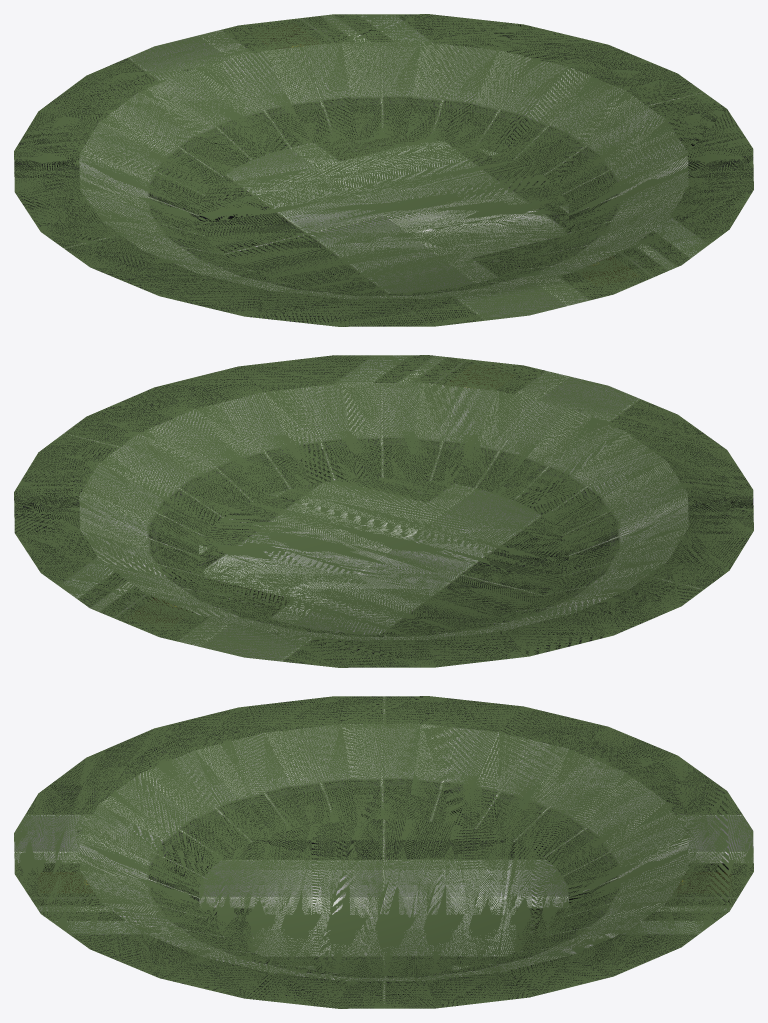
The picture shows the model from 3 angles, top to bottom: view 1: azimuth 30°, elevation 25°; view 2: azimuth 150°, elevation 25°; view 3: azimuth 270°, elevation 25°; orthographic projection.
Parts seen in each view (by area): view 1: mesh1_mesh1-geometry; view 2: mesh1_mesh1-geometry; view 3: mesh1_mesh1-geometry.
Boxes of the visible parts, x1,y1,x2,y2 form: mesh1_mesh1-geometry: [14, 14, 753, 326]; mesh1_mesh1-geometry: [14, 355, 753, 667]; mesh1_mesh1-geometry: [14, 696, 753, 1008].
Size of the model in its own units: 0.7053 by 0.0704 by 0.7053.
